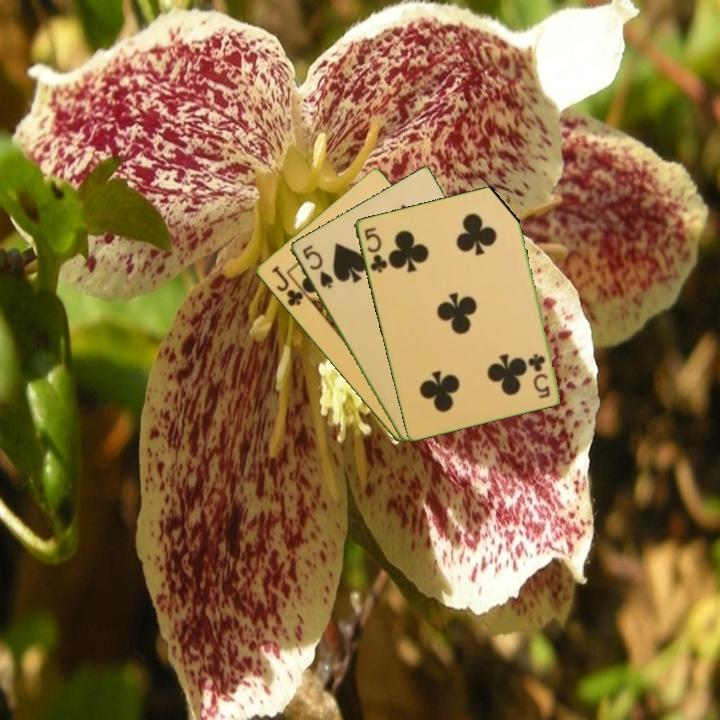5c: (360, 223, 390, 276), (526, 350, 553, 401)
5s: (298, 241, 336, 292)
Jc: (267, 262, 306, 310)
